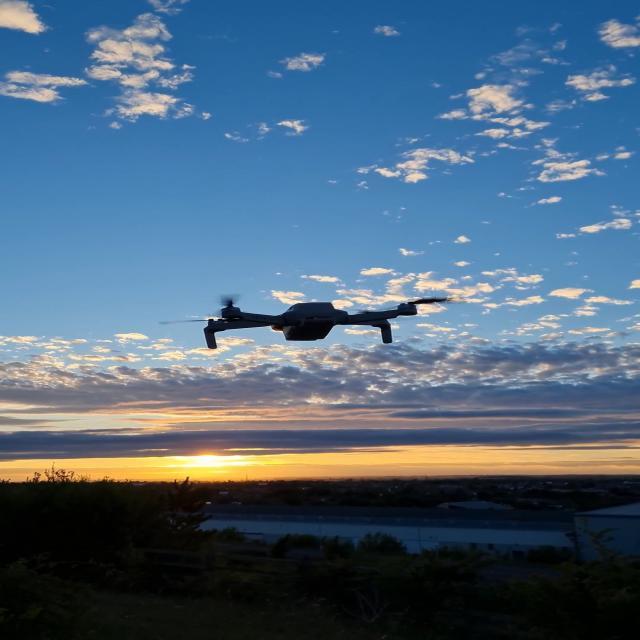Drone: (184, 283, 451, 377)
